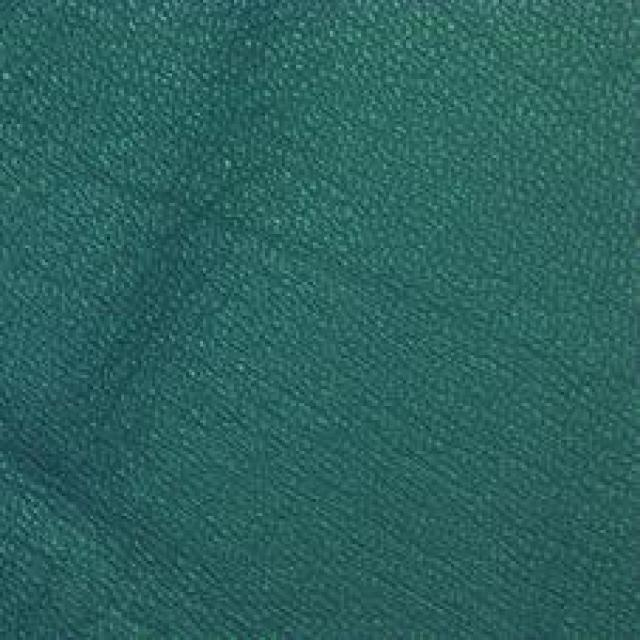Growth Marks: (24, 352, 226, 624), (148, 39, 346, 308)
